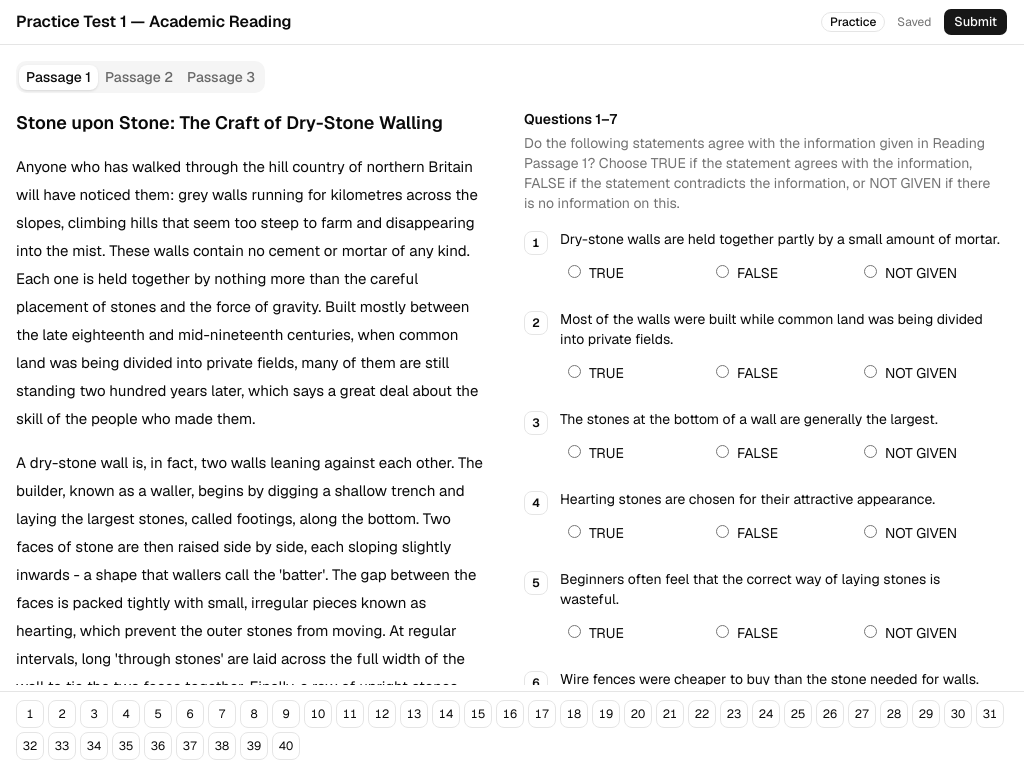
Test case: second submit 409 is treated as already submitted
Click the button "Submit". click: (976, 22)
box: x1=943 y1=8 x2=1008 y2=36
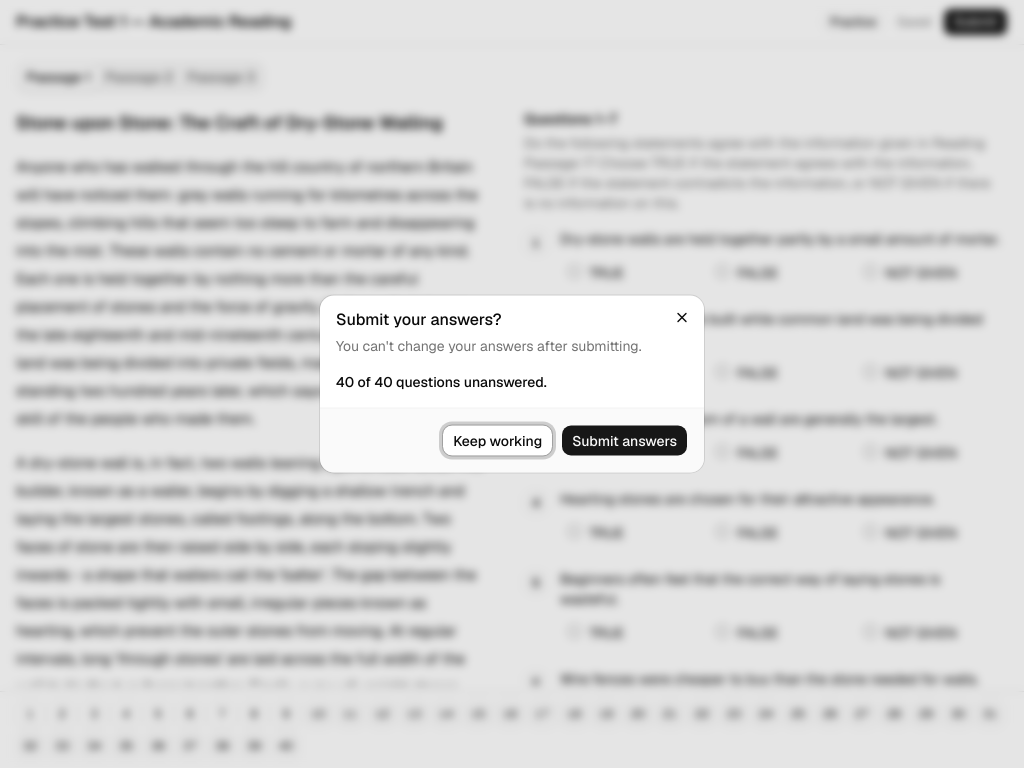
Click the button "Submit answers". click: (625, 440)
box: x1=561 y1=424 x2=688 y2=456
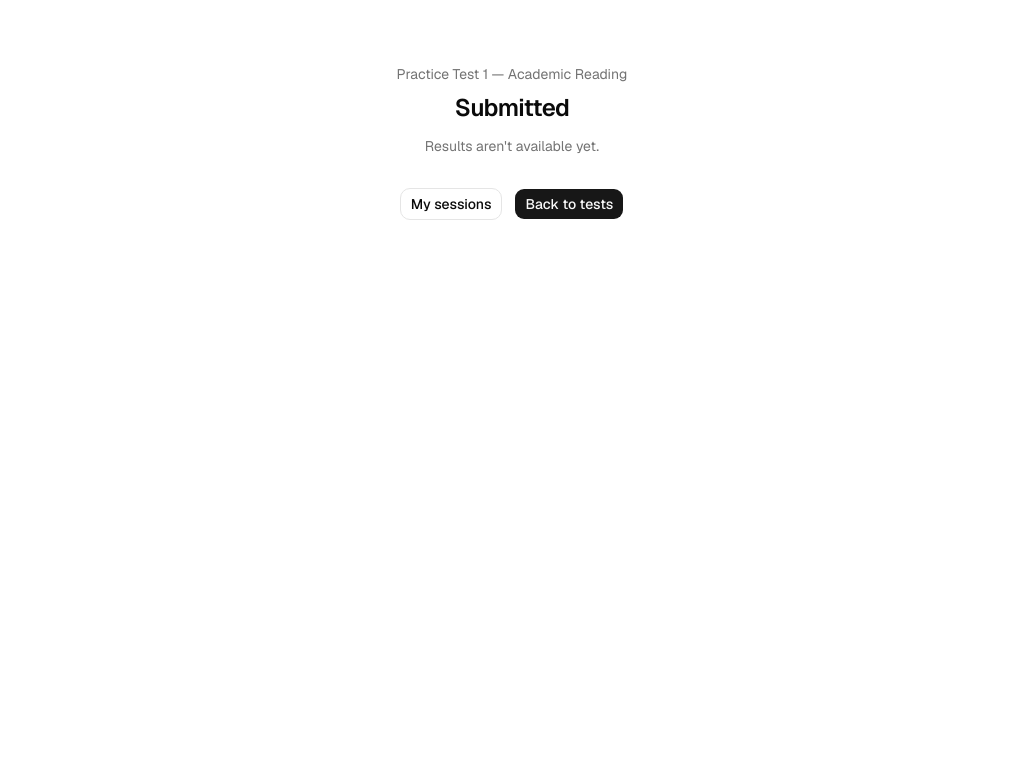
Now the heading "Submitted" is shown, box x1=455 y1=92 x2=569 y2=123
